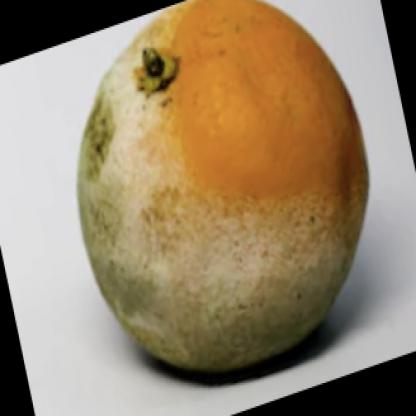rotten_orange: (67, 1, 379, 381)
